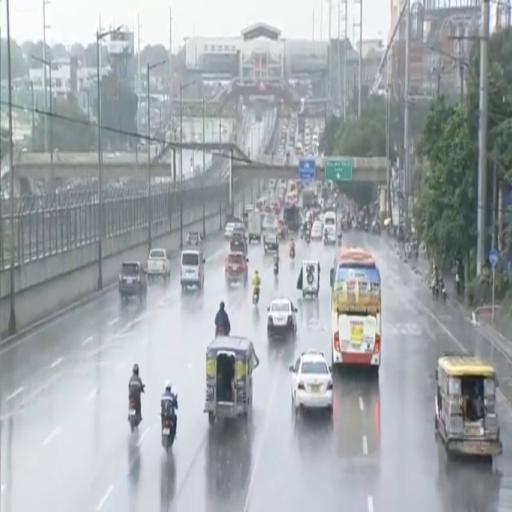bus: (331, 248, 381, 372)
car: (290, 350, 333, 412), (267, 298, 297, 337), (119, 262, 147, 301), (225, 252, 248, 285), (147, 249, 170, 280), (263, 228, 279, 252), (225, 218, 243, 239), (185, 231, 202, 246), (311, 220, 323, 241), (224, 222, 235, 239)
jeepney: (435, 355, 502, 456), (204, 336, 258, 424)
motorcycle: (162, 413, 175, 453), (128, 398, 140, 431), (252, 287, 260, 305), (439, 282, 446, 302), (432, 284, 439, 298), (405, 244, 411, 260), (215, 327, 224, 337), (304, 230, 310, 244), (364, 220, 369, 232), (274, 263, 278, 277), (338, 233, 342, 246), (290, 248, 294, 260), (324, 232, 328, 244)
truck: (283, 204, 300, 232), (248, 211, 261, 243)
